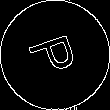P_E: (25, 29, 85, 81)
